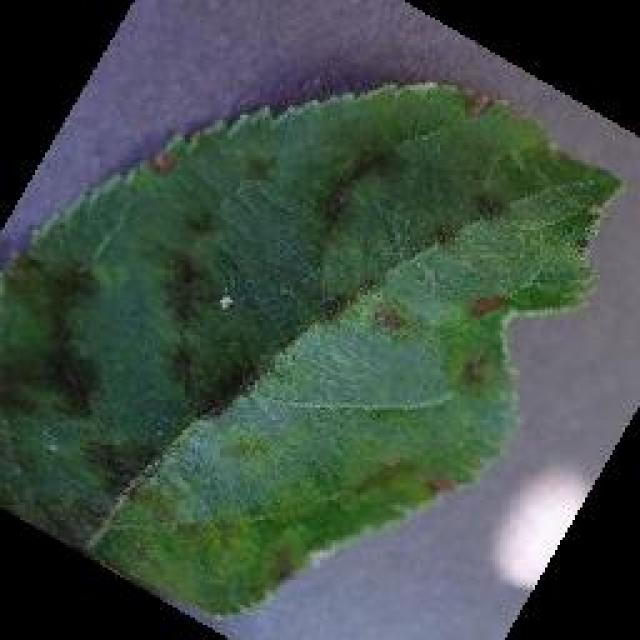apple scab disease: (0, 75, 625, 623)
